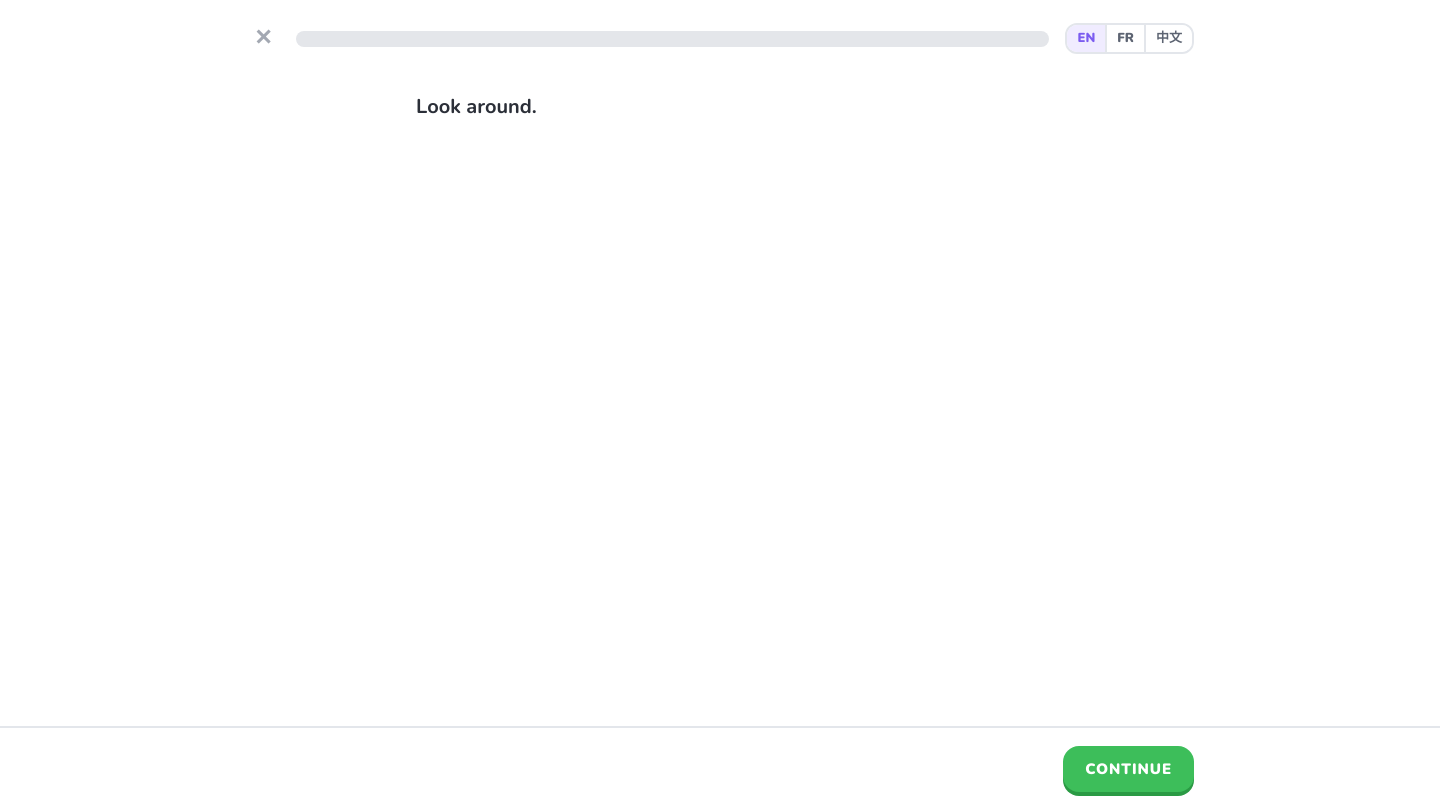
it: without WebGL, a 3D question becomes a four-name choice that still works (Review Focus 4)
What coordinates should you click on to do the following:
click the button "Continue"
I would click on:
 (1129, 769)
Its box is [1063,746,1194,792].
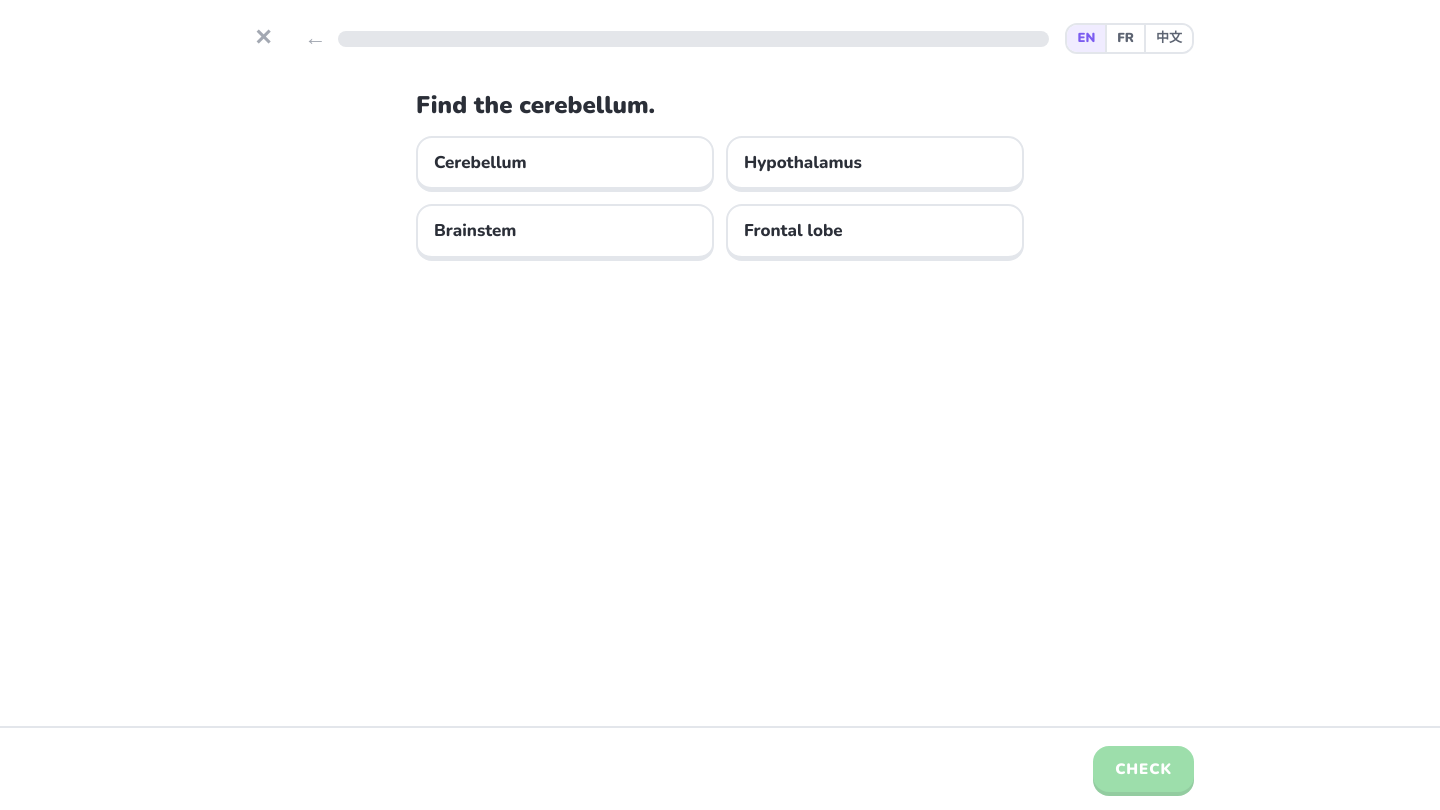
What coordinates should you click on to do the following:
click the button "Cerebellum"
I would click on:
 (480, 162)
Its box is [416,136,714,192].
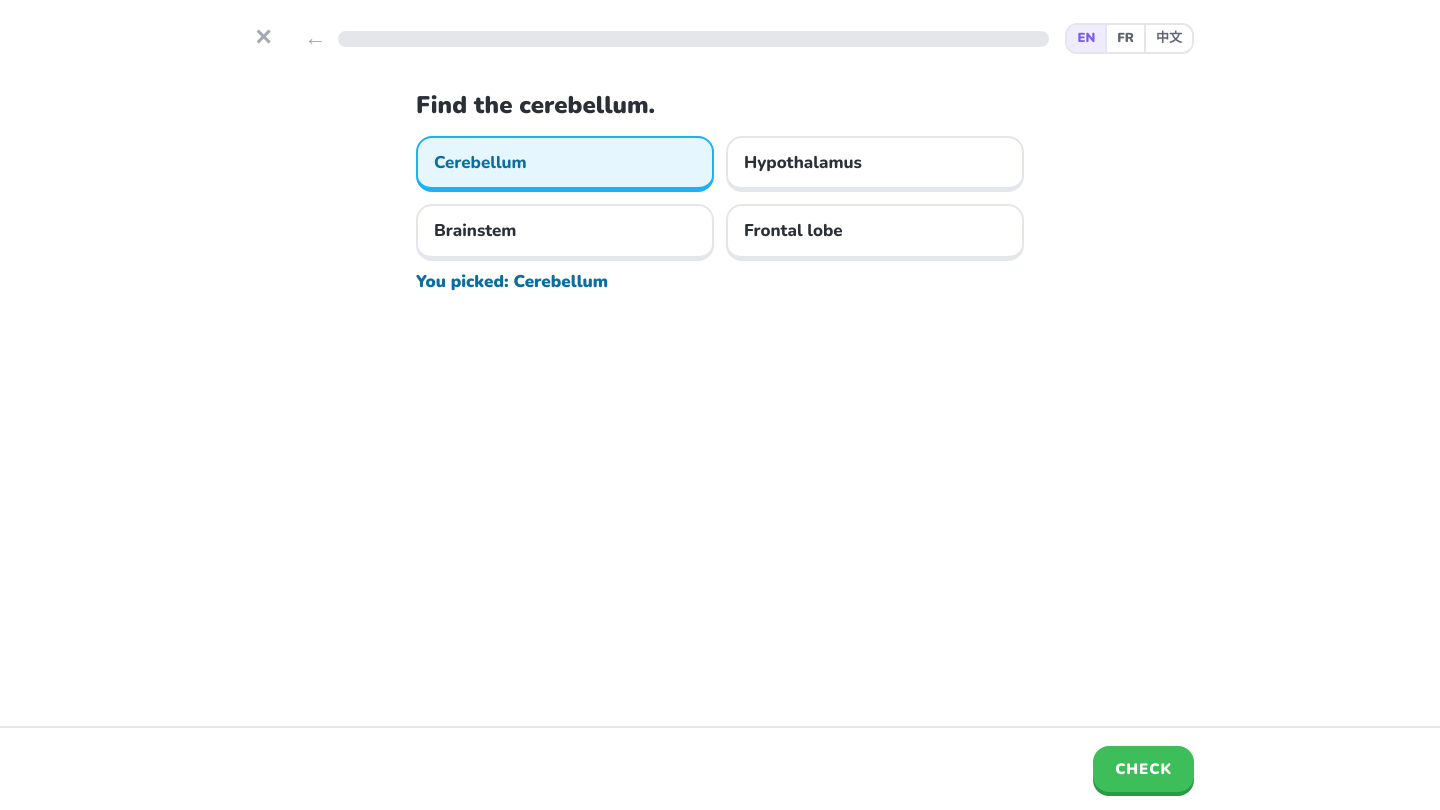
What coordinates should you click on to do the following:
click the button "Check"
I would click on:
 (1144, 769)
Its box is [1093,746,1194,792].
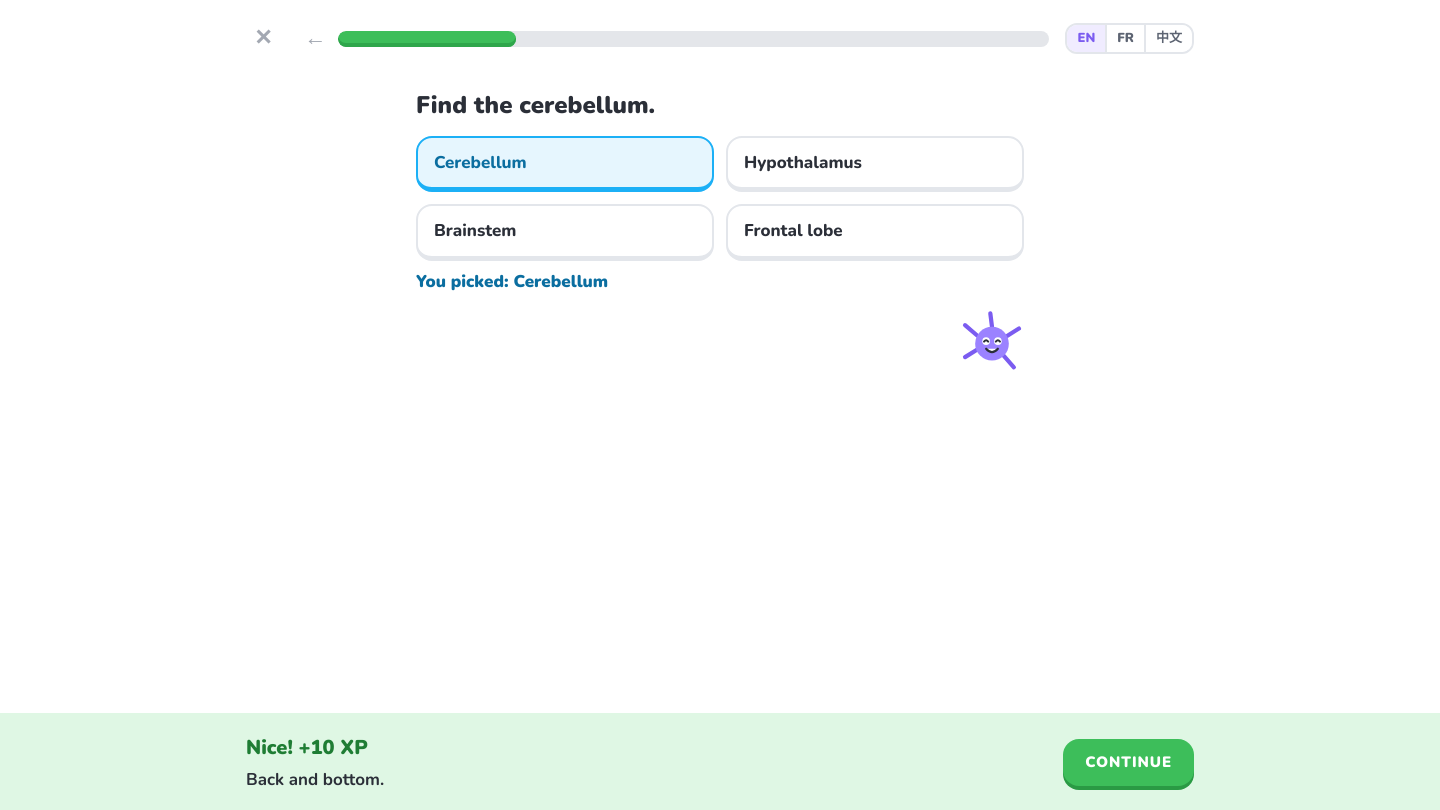
Expected: the text "Nice! +10 XP" is shown, [246,734,368,760]
